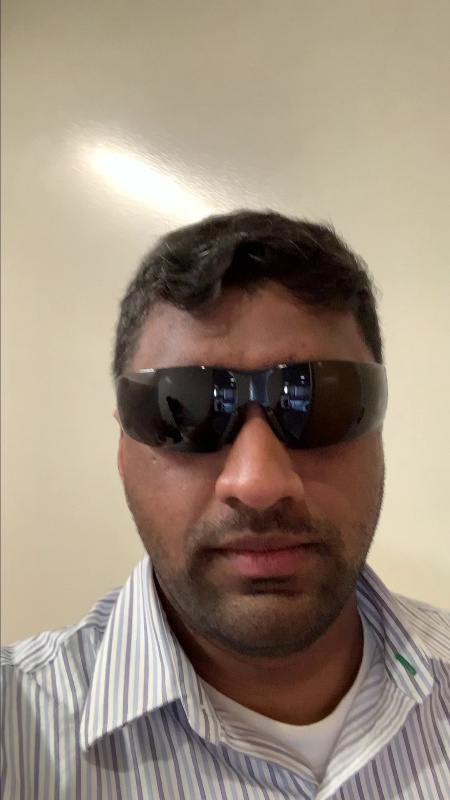glasses: (103, 360, 401, 456)
